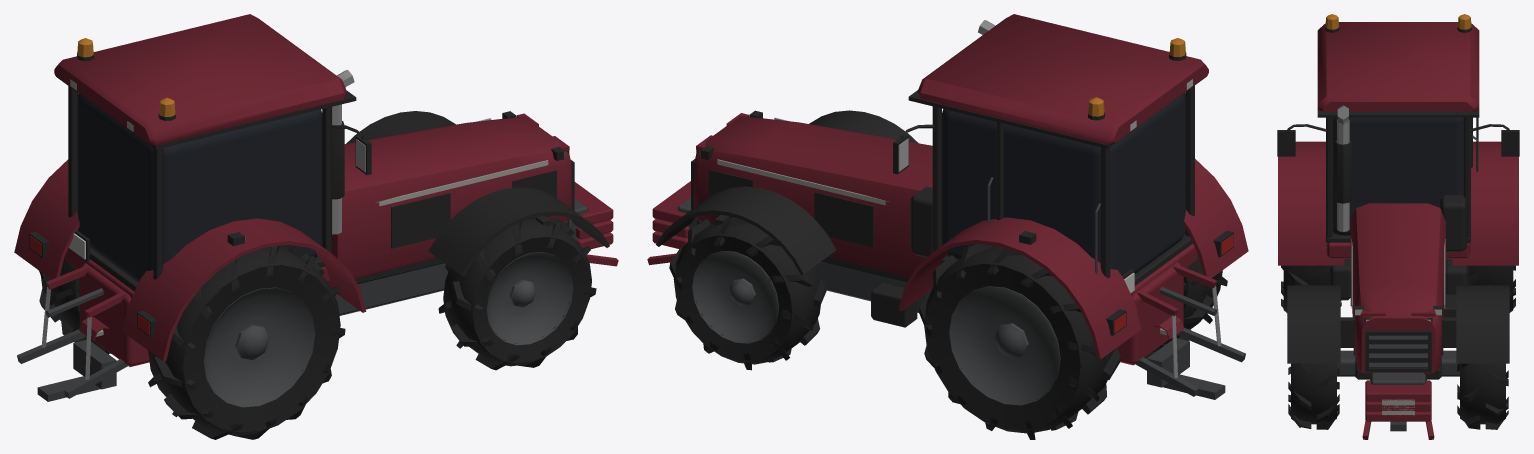
Rendered from SM_Prop_farm_tractor_1_LOD1.glb.
3 views of the same model, side by side, from view 1: azimuth 30°, elevation 25°; view 2: azimuth 150°, elevation 25°; view 3: azimuth 270°, elevation 25° (orthographic). The views are drawn at different scales.
Visible parts, largest first — view 1: SM_Prop_farm_tractor_1_LOD1; view 2: SM_Prop_farm_tractor_1_LOD1; view 3: SM_Prop_farm_tractor_1_LOD1.
Boxes of the visible parts, bbox=[...] form: SM_Prop_farm_tractor_1_LOD1: bbox=[14, 14, 618, 439]; SM_Prop_farm_tractor_1_LOD1: bbox=[647, 14, 1248, 439]; SM_Prop_farm_tractor_1_LOD1: bbox=[1277, 14, 1519, 439].
Size of the model in its own units: 5.65 by 3.31 by 2.64.
